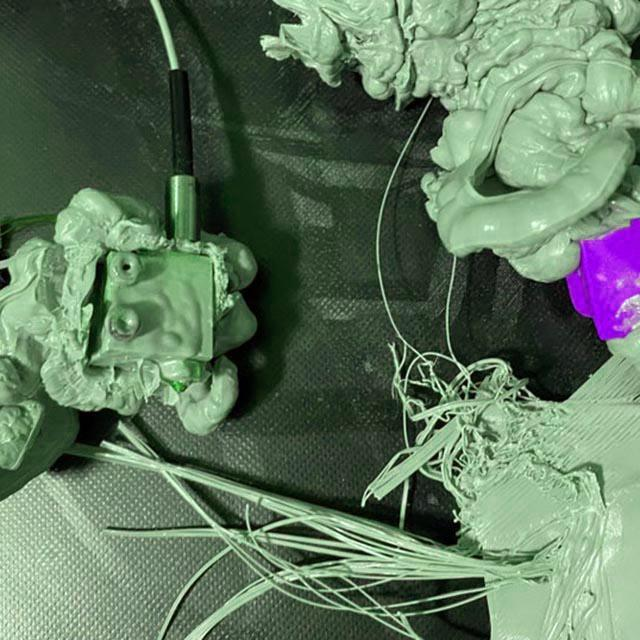Spaghetti: (98, 514, 560, 640), (358, 338, 558, 512)
